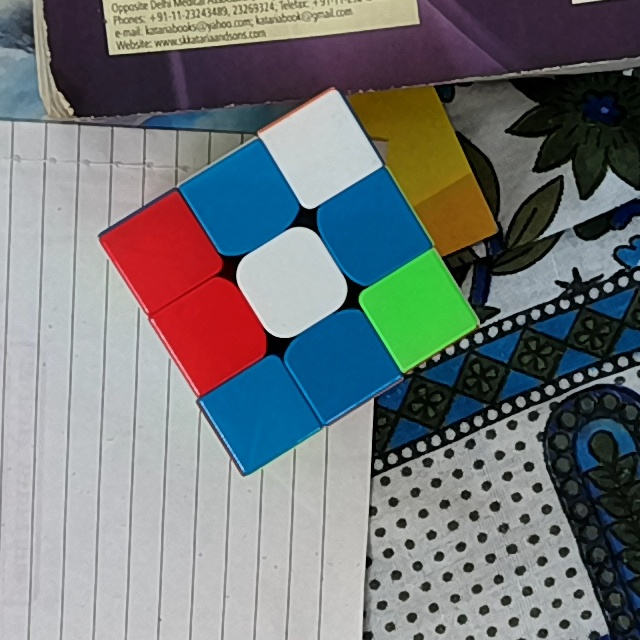tile: (258, 251, 327, 314), (288, 117, 354, 181), (337, 197, 401, 263), (126, 222, 193, 284), (181, 301, 245, 365), (212, 168, 274, 234), (228, 384, 293, 444), (387, 280, 451, 339), (312, 331, 373, 389)
